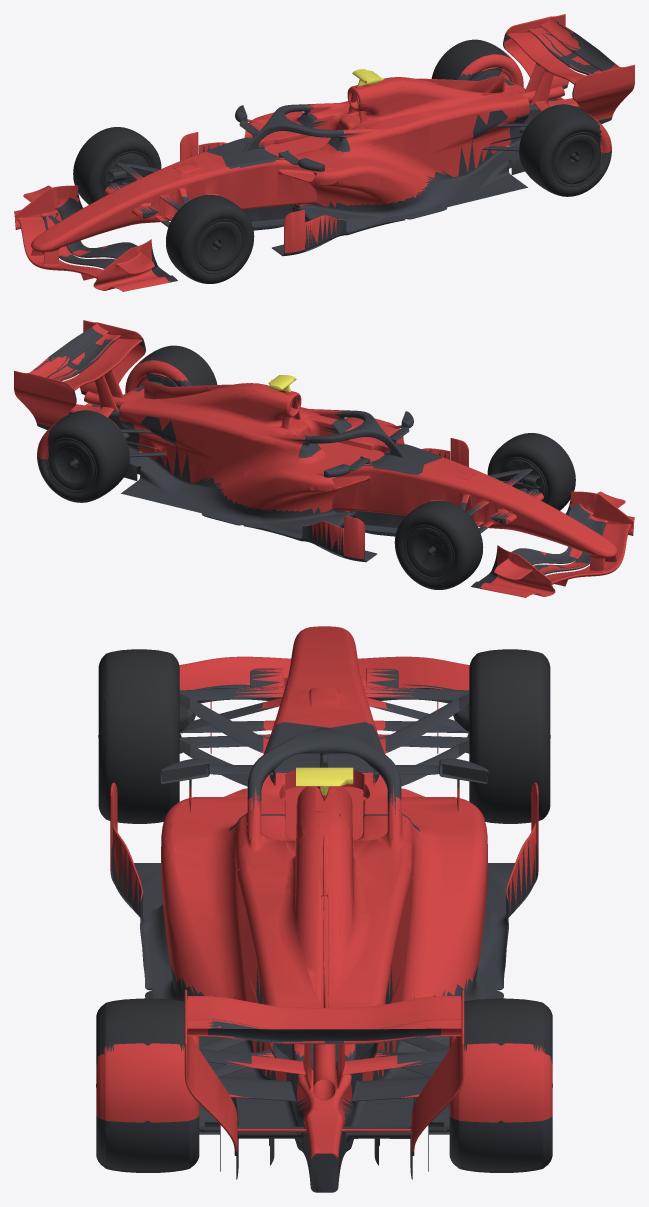
Rendered from car.glb.
3 renders of one model, top to bottom at view 1: azimuth 30°, elevation 25°; view 2: azimuth 150°, elevation 25°; view 3: azimuth 270°, elevation 25°, orthographic. The views are drawn at different scales.
Visible parts, largest first — view 1: wheel, airbox, nose, sidepod, floor, rearWing, frontWing, halo, suspension, frontFlap, rearFlap, diffuser; view 2: wheel, airbox, nose, sidepod, floor, rearWing, frontWing, halo, suspension, frontFlap, rearFlap, diffuser; view 3: wheel, rearWing, airbox, sidepod, diffuser, nose, suspension, floor, halo, frontWing, rearFlap, camera.
Part boxes in pixels (x1,y1,x2,y2): wheel: [73, 32, 601, 283]; airbox: [302, 54, 560, 176]; nose: [31, 122, 335, 255]; sidepod: [180, 68, 532, 253]; floor: [191, 143, 527, 256]; rearWing: [499, 14, 634, 154]; frontWing: [14, 185, 170, 291]; halo: [206, 104, 358, 171]; suspension: [108, 67, 528, 227]; frontFlap: [42, 197, 137, 268]; rearFlap: [534, 21, 615, 74]; diffuser: [474, 80, 612, 180]; wheel: [47, 338, 575, 589]; airbox: [88, 360, 346, 482]; nose: [313, 428, 617, 562]; sidepod: [116, 374, 468, 559]; floor: [121, 442, 457, 562]; rearWing: [14, 320, 149, 460]; frontWing: [479, 491, 634, 597]; halo: [290, 410, 442, 477]; suspension: [120, 372, 540, 533]; frontFlap: [511, 503, 606, 574]; rearFlap: [34, 327, 114, 380]; diffuser: [37, 386, 174, 485]; wheel: [96, 649, 552, 1172]; rearWing: [96, 989, 552, 1161]; airbox: [198, 786, 450, 1080]; sidepod: [110, 782, 538, 1001]; diffuser: [96, 1038, 552, 1192]; nose: [234, 626, 414, 839]; suspension: [179, 669, 469, 1076]; floor: [110, 829, 538, 1106]; halo: [160, 722, 488, 831]; frontWing: [179, 656, 469, 753]; rearFlap: [208, 1019, 440, 1044]; camera: [296, 767, 353, 797].
Bounding box in the file's own units: 5.39 × 1.1 × 1.88.
